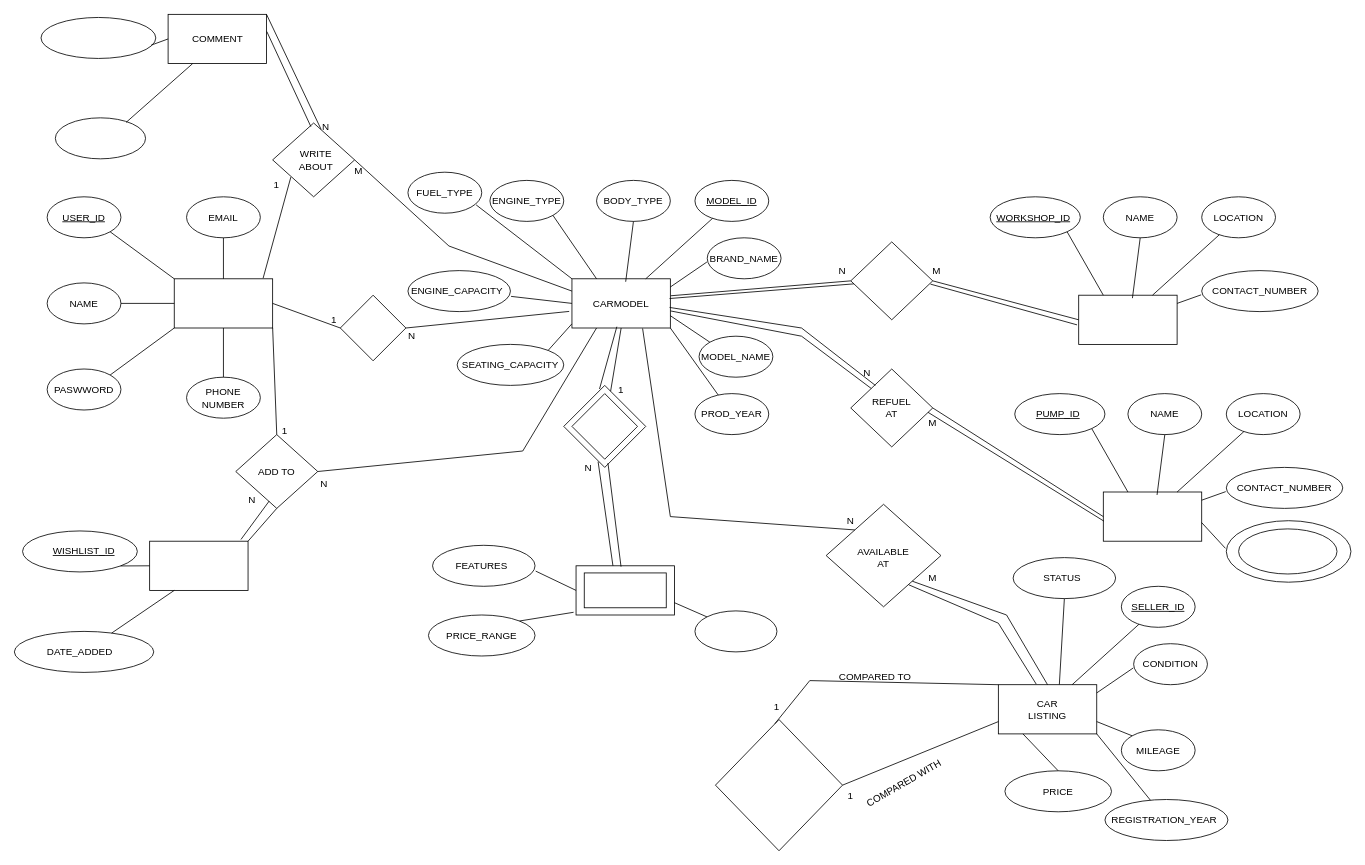
This 1365x865 diagram has some shape labels left out. The centre of each missing label's shape, as x and y in pixels:
"CAR PACKAGE" goes at pixel 624 590.
"COMMENT_ID" goes at pixel 98 37.
"COMMENT_TEXT" goes at pixel 100 138.
"COMPARISON" goes at pixel 779 785.
"FUEL PUMP" goes at pixel 1152 516.
"FUEL_TYPES" goes at pixel 1287 551.
"HAS PACKAGES" goes at pixel 604 426.
"PACKAGE_NAME" goes at pixel 735 631.
"SEARCH FOR" goes at pixel 372 327.
"SERVICED AT" goes at pixel 891 280.
"USER" goes at pixel 223 303.
"WISHLIST" goes at pixel 198 565.
"WORKSHOP" goes at pixel 1127 319.
